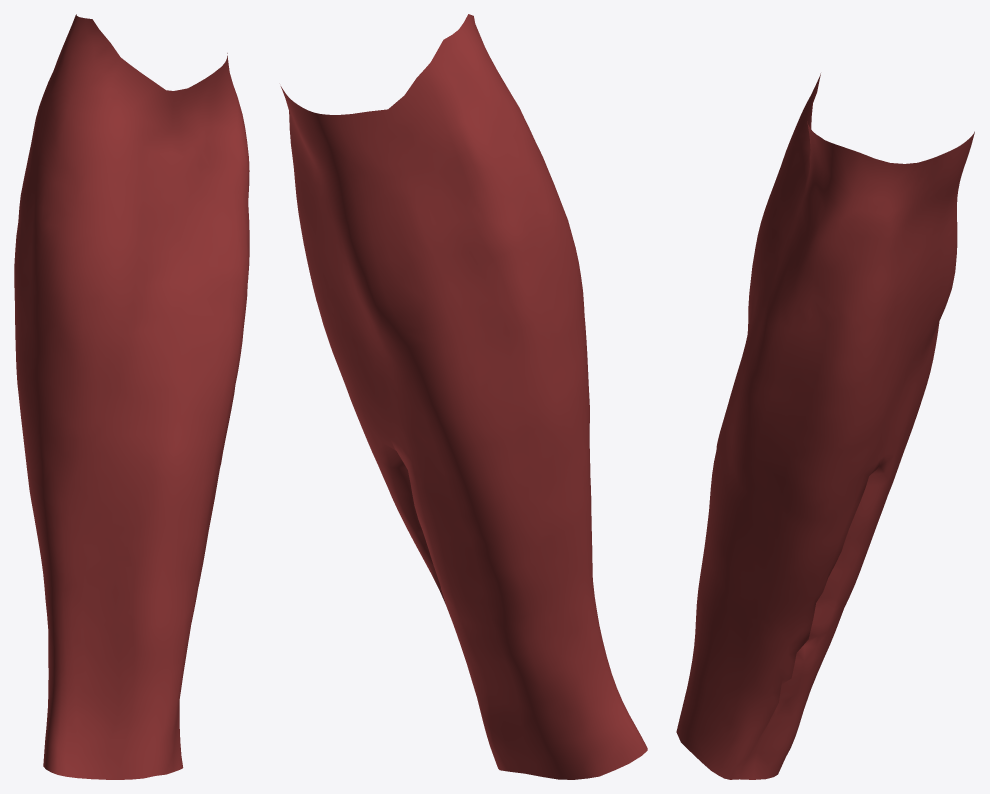
The model's file is antebrachial-fascia-r.glb.
3 views of the same model, side by side, from view 1: azimuth 30°, elevation 25°; view 2: azimuth 150°, elevation 25°; view 3: azimuth 270°, elevation 25° (orthographic). The views are drawn at different scales.
Parts seen in each view (by area): view 1: Antebrachial fascia.r; view 2: Antebrachial fascia.r; view 3: Antebrachial fascia.r.
Boxes of the visible parts, bbox=[...] form: Antebrachial fascia.r: bbox=[14, 14, 249, 779]; Antebrachial fascia.r: bbox=[280, 14, 647, 779]; Antebrachial fascia.r: bbox=[676, 73, 974, 779].
Size of the model in its own units: 0.1051 by 0.2862 by 0.1025.
